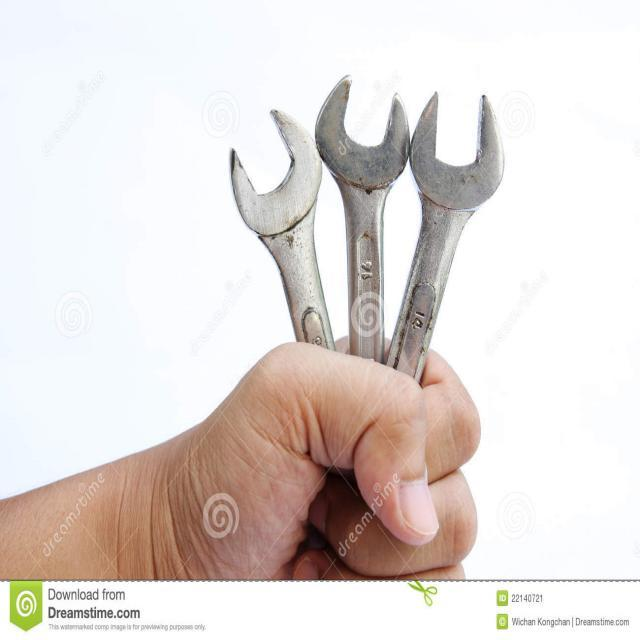wrench: (387, 88, 507, 384), (311, 72, 409, 364), (227, 104, 338, 359)
